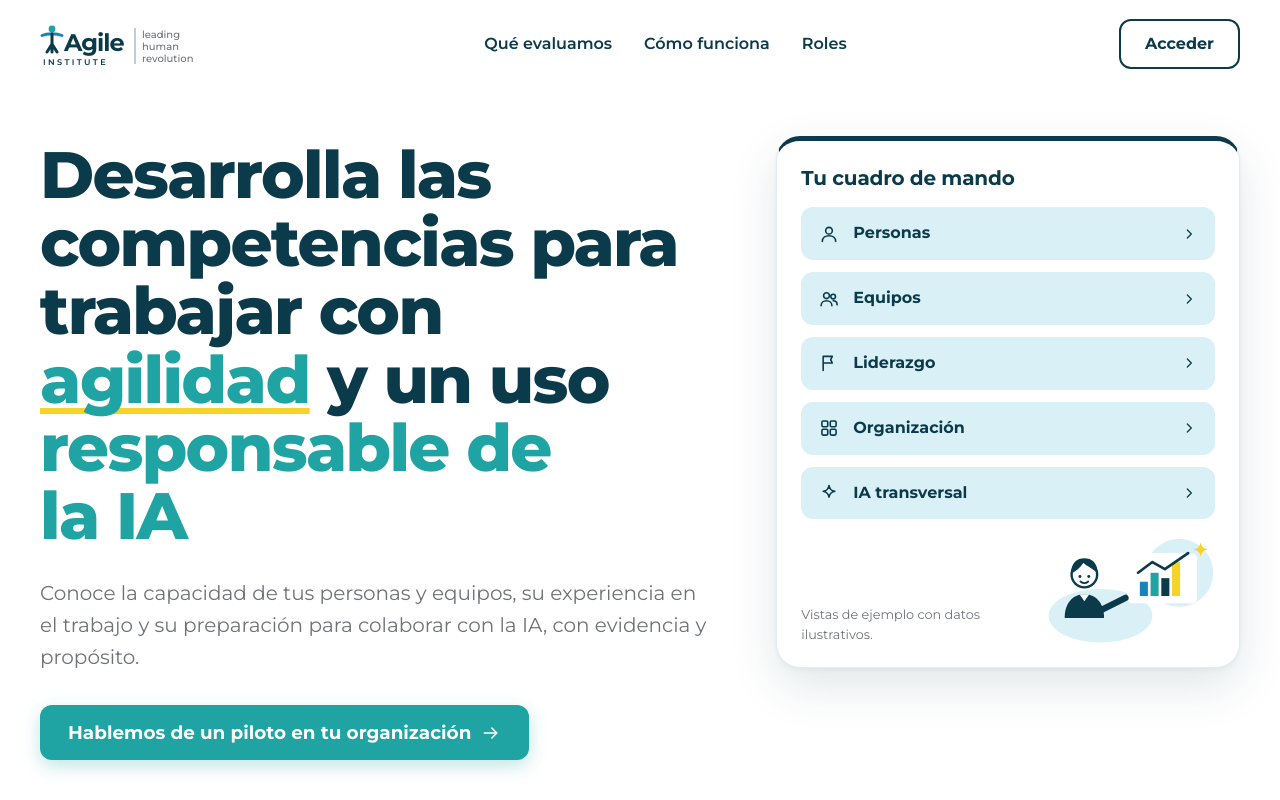
Landing › envía la solicitud al BFF y muestra la confirmación
Click the button "Hablemos de un piloto en tu organización": (285, 733) [40,705,529,760]
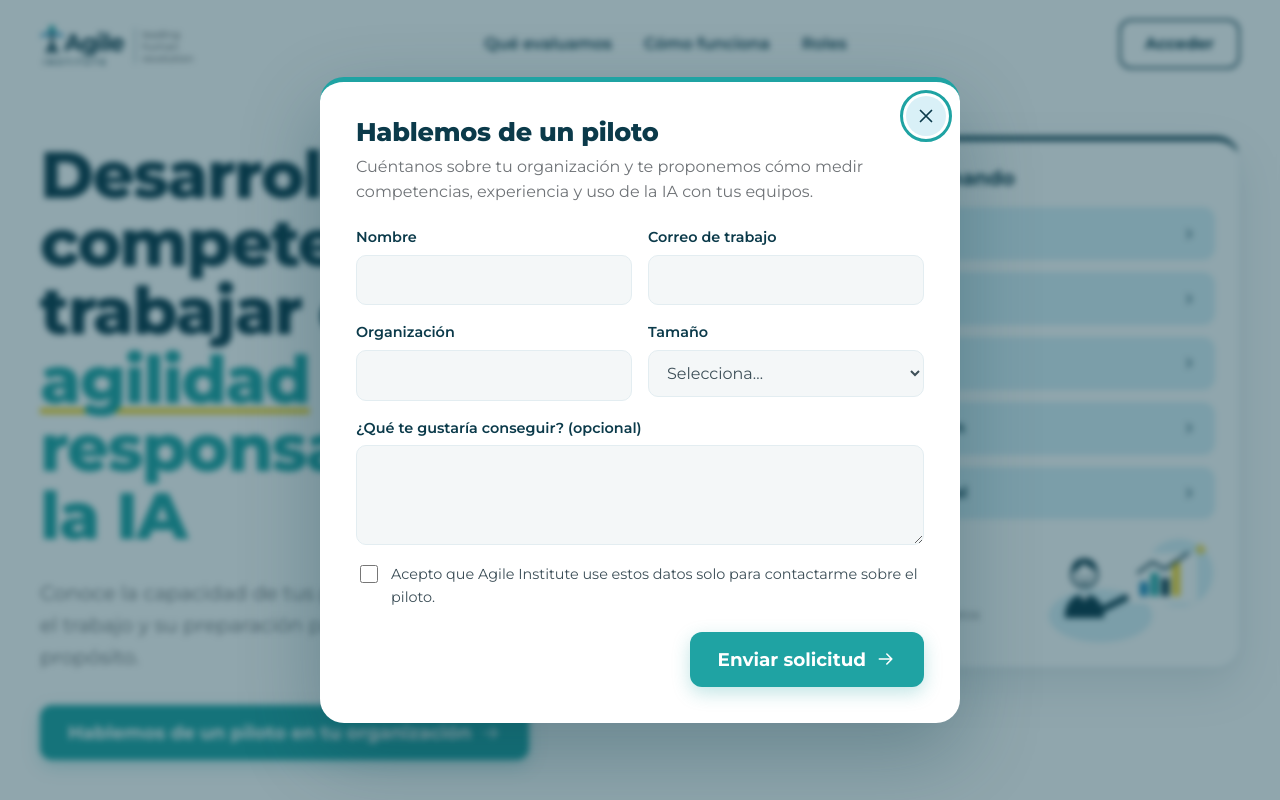
In the field labelled "Nombre": (494, 280) [356,255,632,305], type "Ana Pérez"
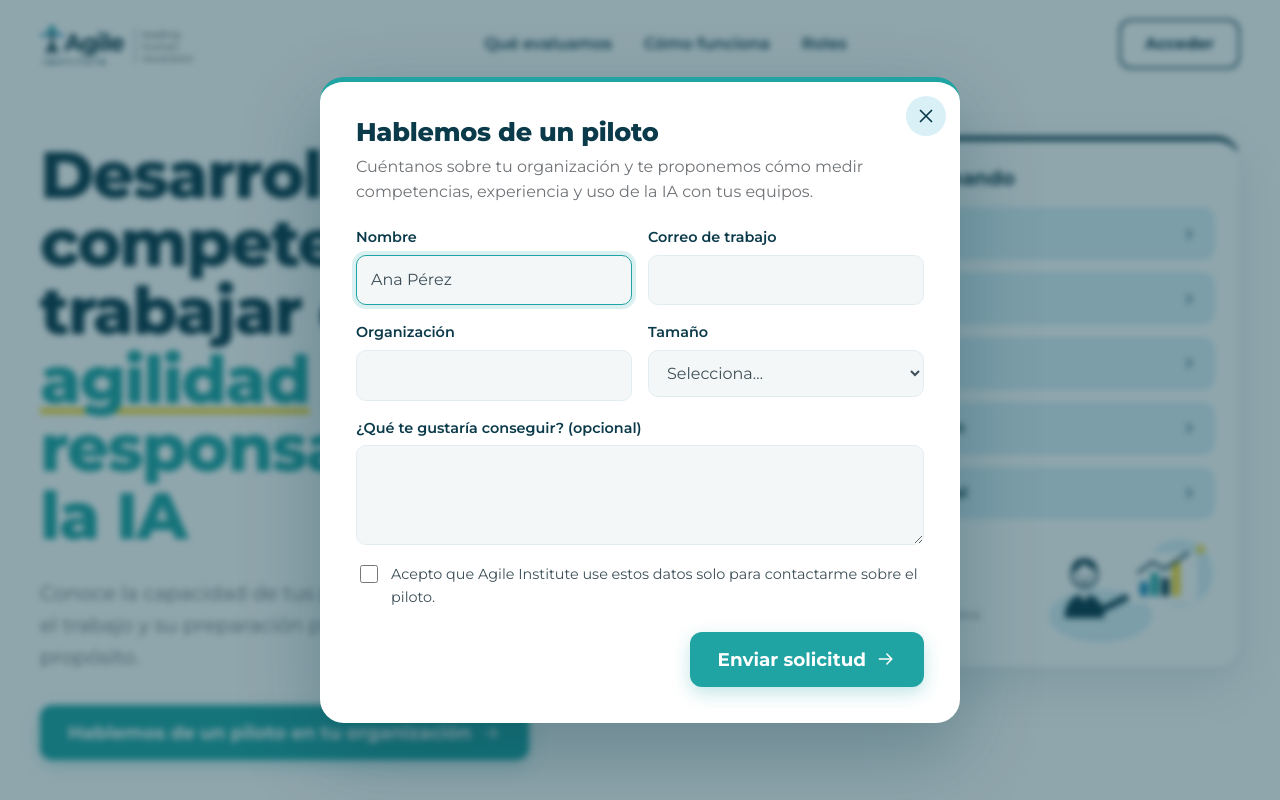
In the field labelled "Correo de trabajo": (786, 280) [648,255,924,305], type "ana@empresa.es"
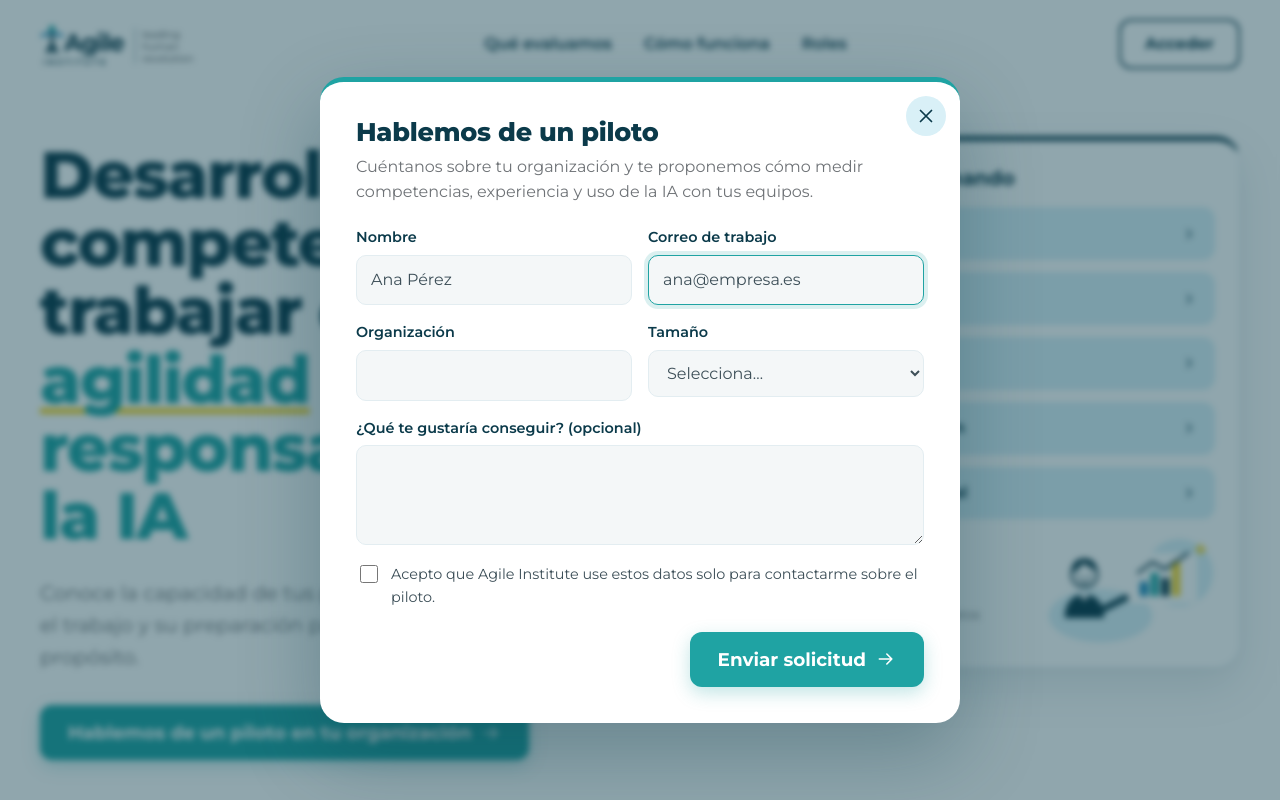
In the field labelled "Organización": (494, 375) [356,350,632,401], type "Empresa S.A."
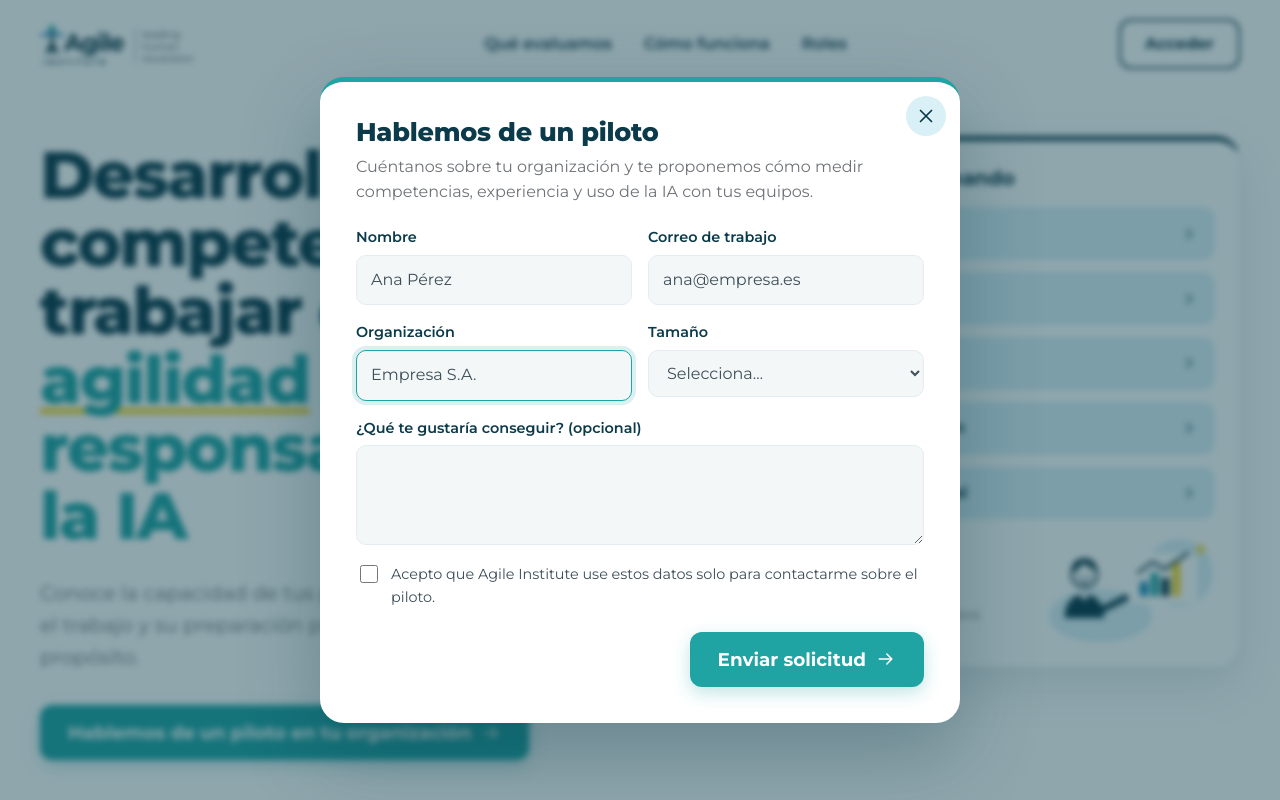
Click the checkbox: (369, 574) [360,565,378,583]
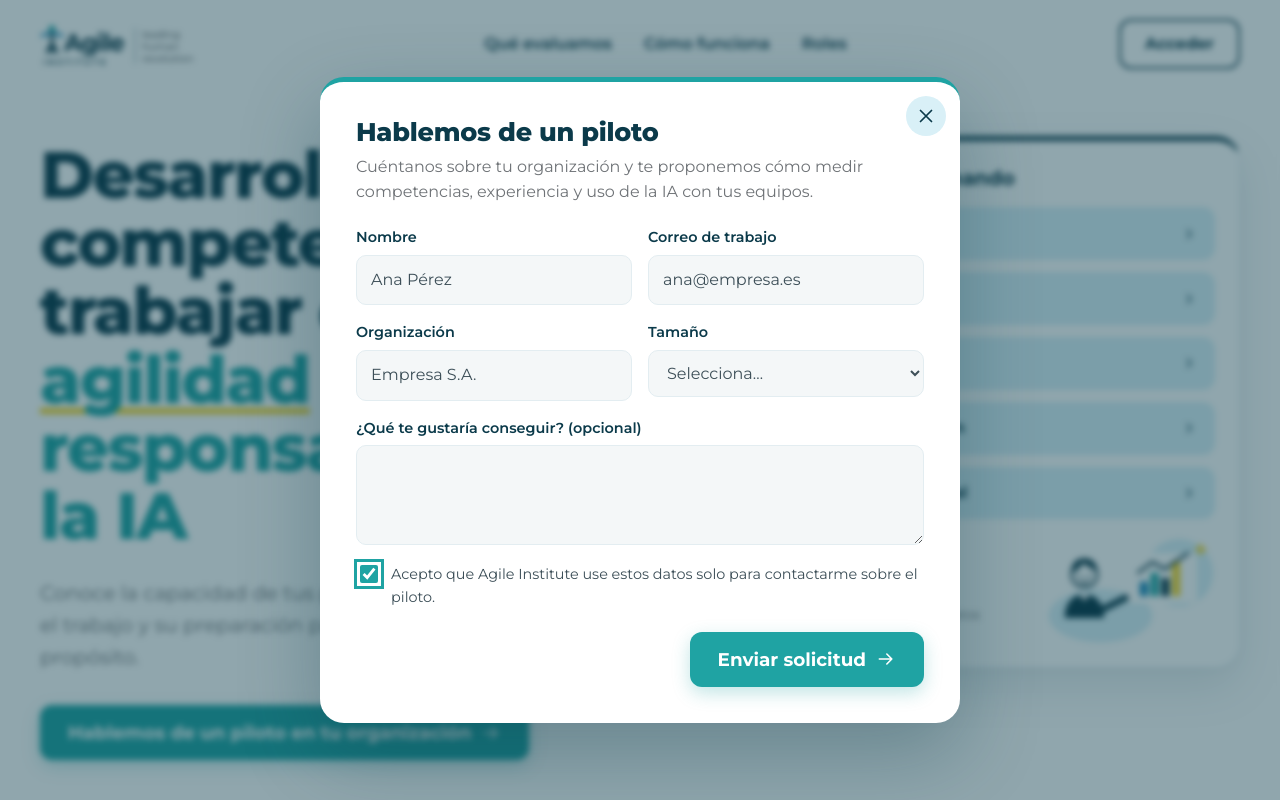
Click the button "Enviar solicitud": (807, 659) [690,632,924,687]
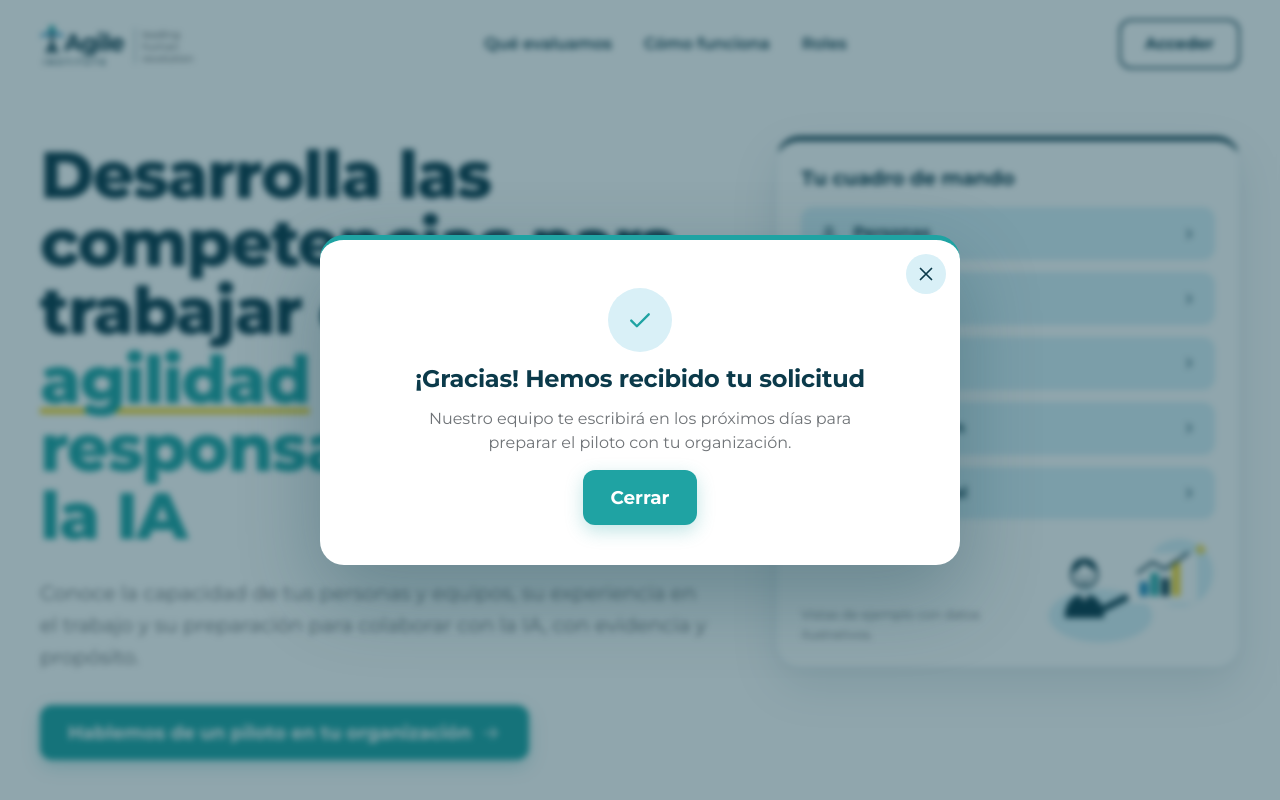
Expected: the heading "¡Gracias! Hemos recibido tu solicitud" is shown, [415,366,865,393]
